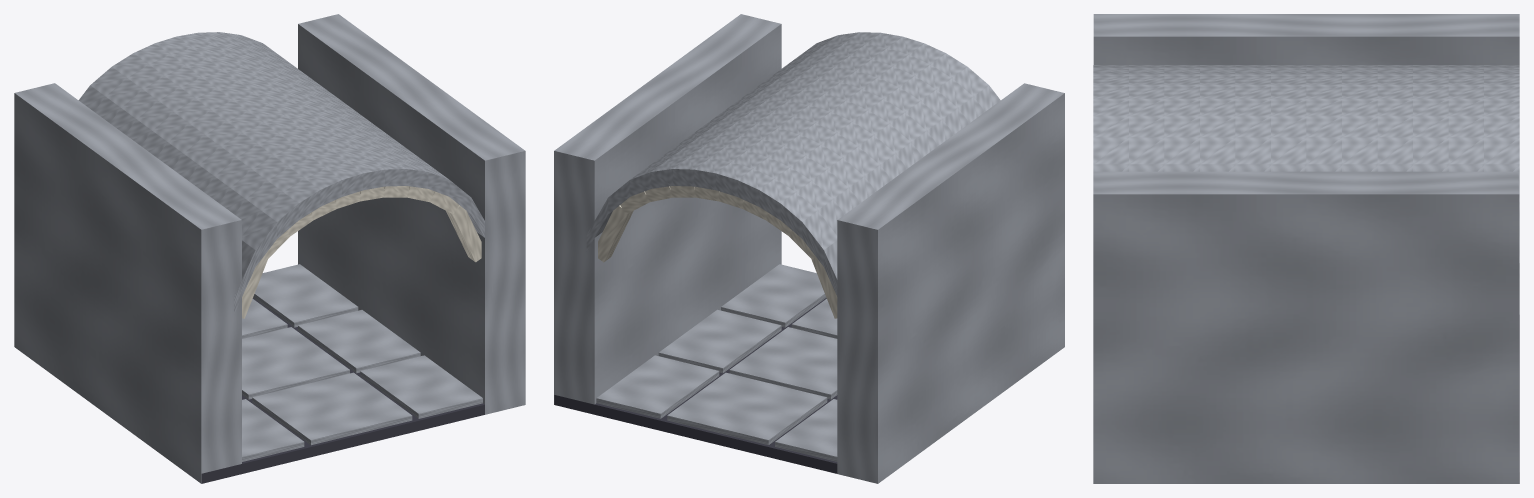
The model's file is vampire-crypt-and-gothic-cathedral-crypt-corridor-stra-c48b3b55__22971.glb.
The picture shows the model from 3 angles, left to right: view 1: azimuth 30°, elevation 25°; view 2: azimuth 150°, elevation 25°; view 3: azimuth 270°, elevation 25°; orthographic projection. The views are drawn at different scales.
Visible parts, largest first — view 1: crypt-corridor-straight; view 2: crypt-corridor-straight; view 3: crypt-corridor-straight.
Boxes of the visible parts, left/top/right/bottom form: crypt-corridor-straight: left=14, top=14, right=525, bottom=483; crypt-corridor-straight: left=554, top=14, right=1064, bottom=483; crypt-corridor-straight: left=1093, top=14, right=1519, bottom=483.
Size of the model in its own units: 4 by 3.2 by 4.
3 materials, 2 textured.
